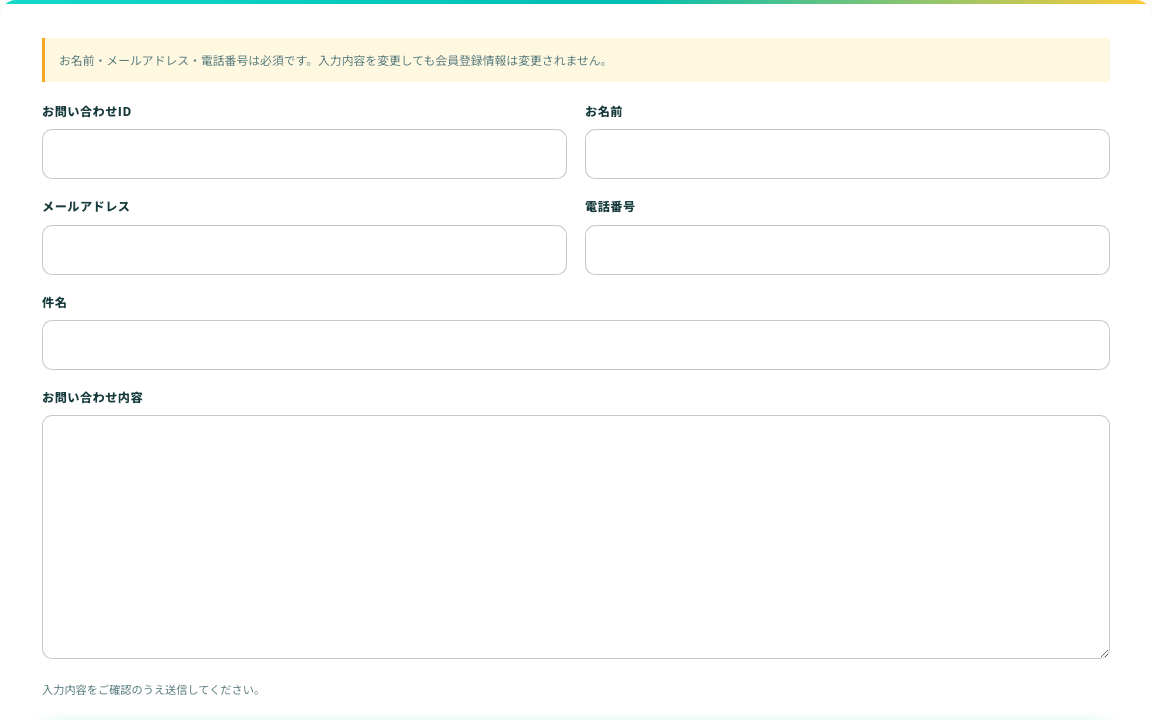
Scenario: Contact page and form › omits an empty inquiry_id query from the payload
This screenshot has width=1152, height=720.
Expected: the field labelled "お名前" is shown, left=585, top=129, right=1110, bottom=179
Expected: the field labelled "お問い合わせID" is empty, left=42, top=129, right=567, bottom=179
Type "09000000000" into the field labelled "電話番号".
click(848, 250); type("09000000000")  # box left=585, top=225, right=1110, bottom=275
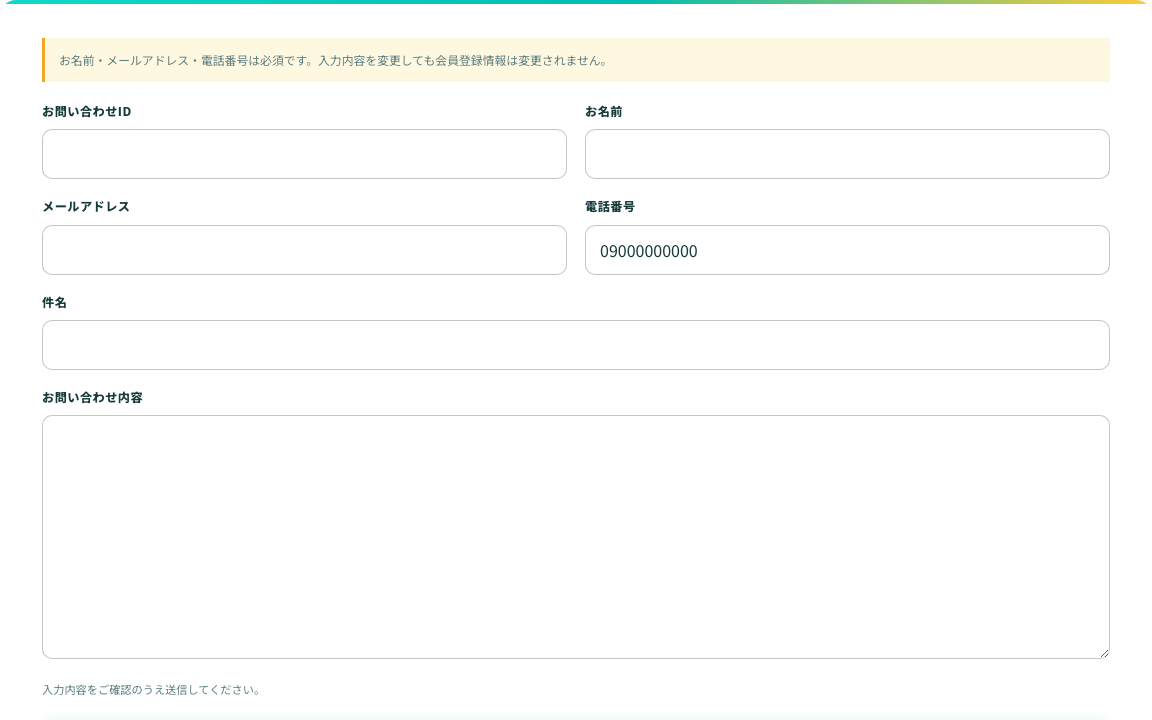
Type "テスト利用者" into the field labelled "お名前".
click(848, 154); type("テスト利用者")  # box left=585, top=129, right=1110, bottom=179
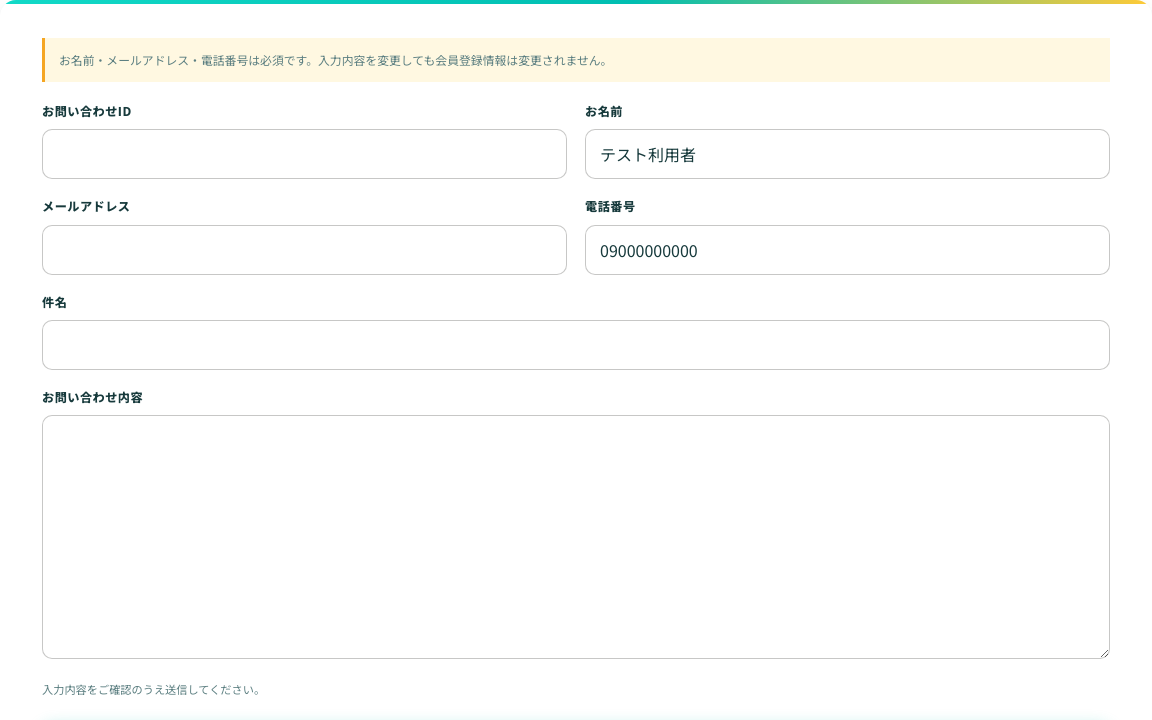
Type "user@example.test" into the field labelled "メールアドレス".
click(304, 250); type("user@example.test")  # box left=42, top=225, right=567, bottom=275
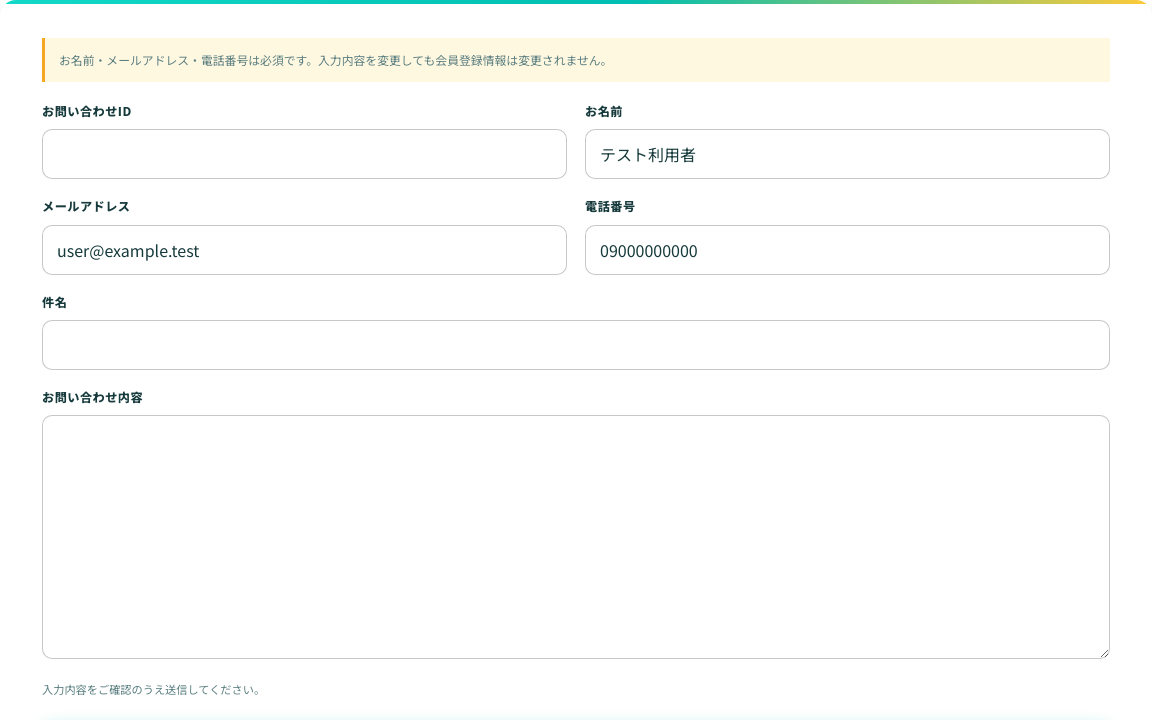
Type "商品について" into the field labelled "件名".
click(576, 345); type("商品について")  # box left=42, top=320, right=1110, bottom=370
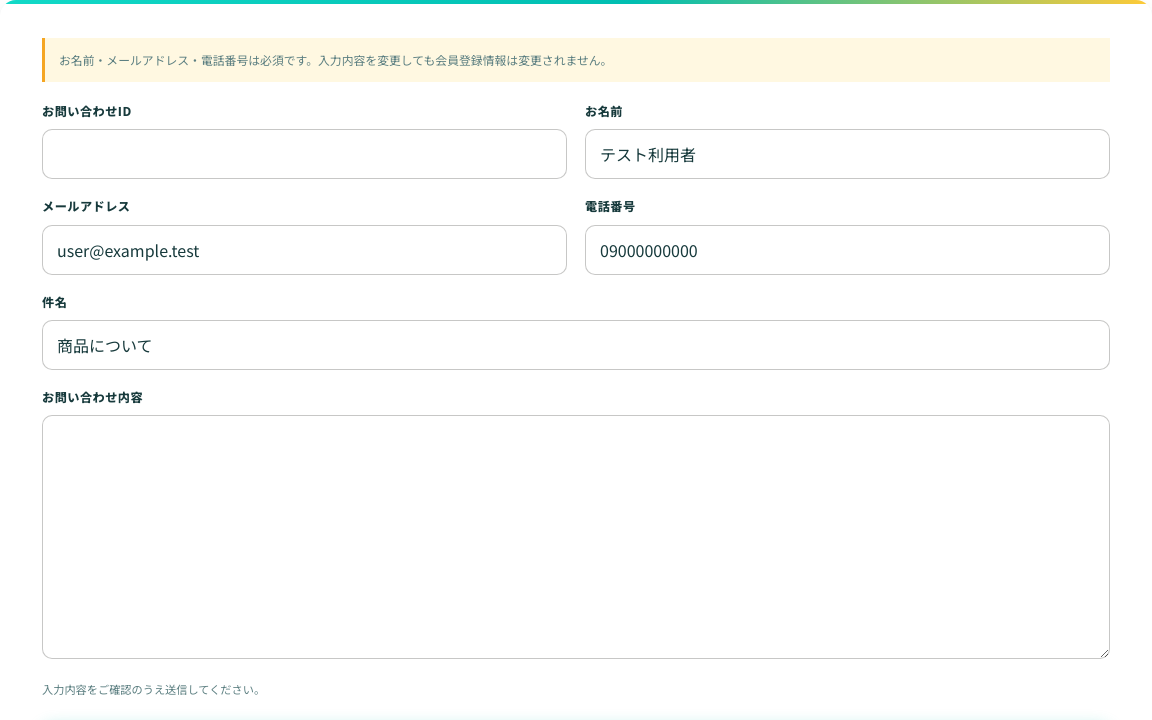
Type "問い合わせ本文です。" into the text box labelled "お問い合わせ内容".
click(576, 537); type("問い合わせ本文です。")  # box left=42, top=415, right=1110, bottom=659
(page scrolled)
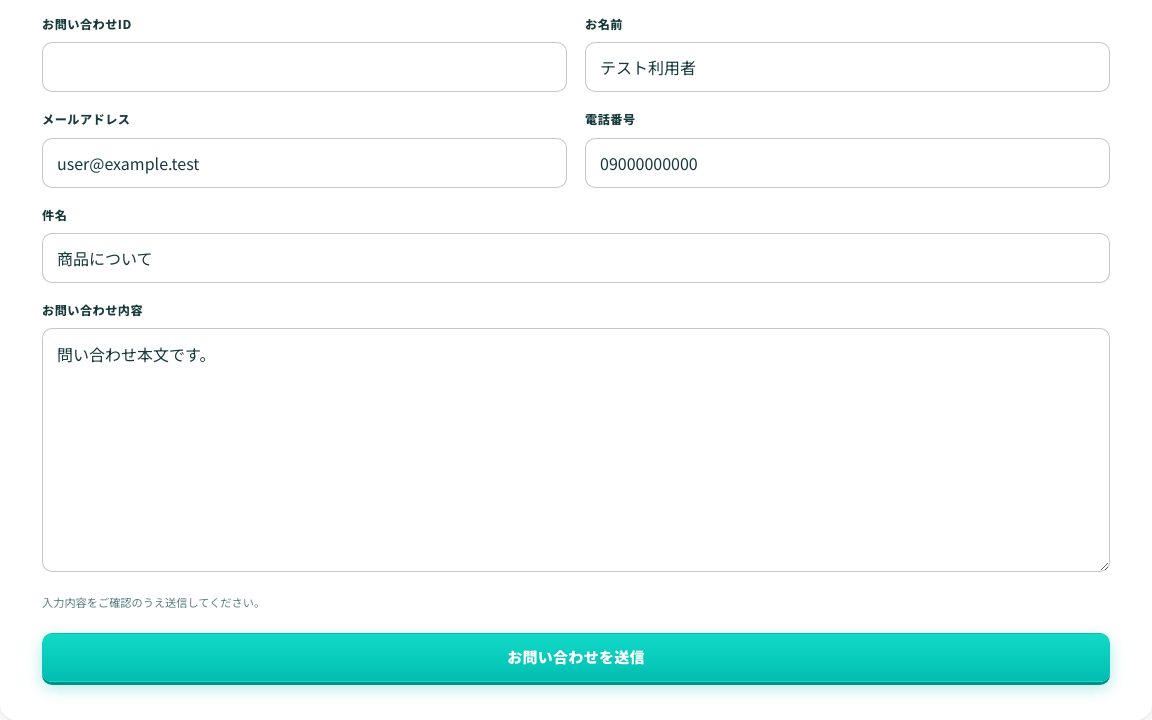
Click the button "お問い合わせを送信".
click(576, 658)  # box left=42, top=634, right=1110, bottom=682
(page scrolled)
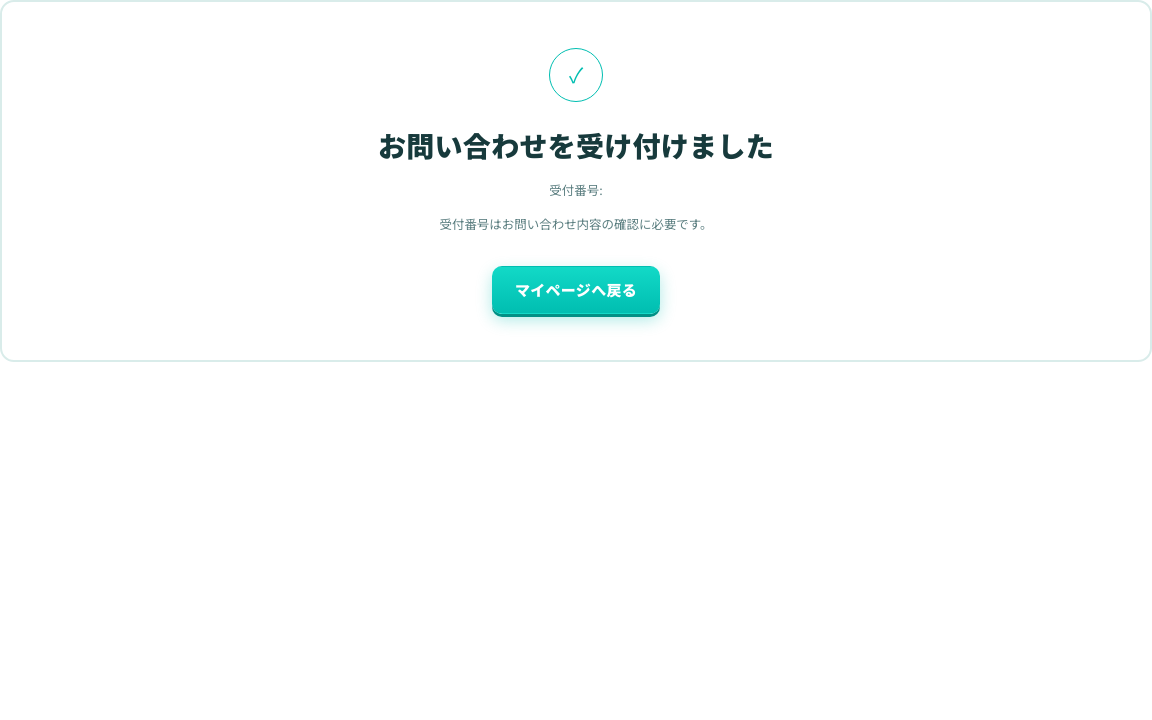
Result: the heading "お問い合わせを受け付けました" is shown at left=378, top=124, right=774, bottom=166
